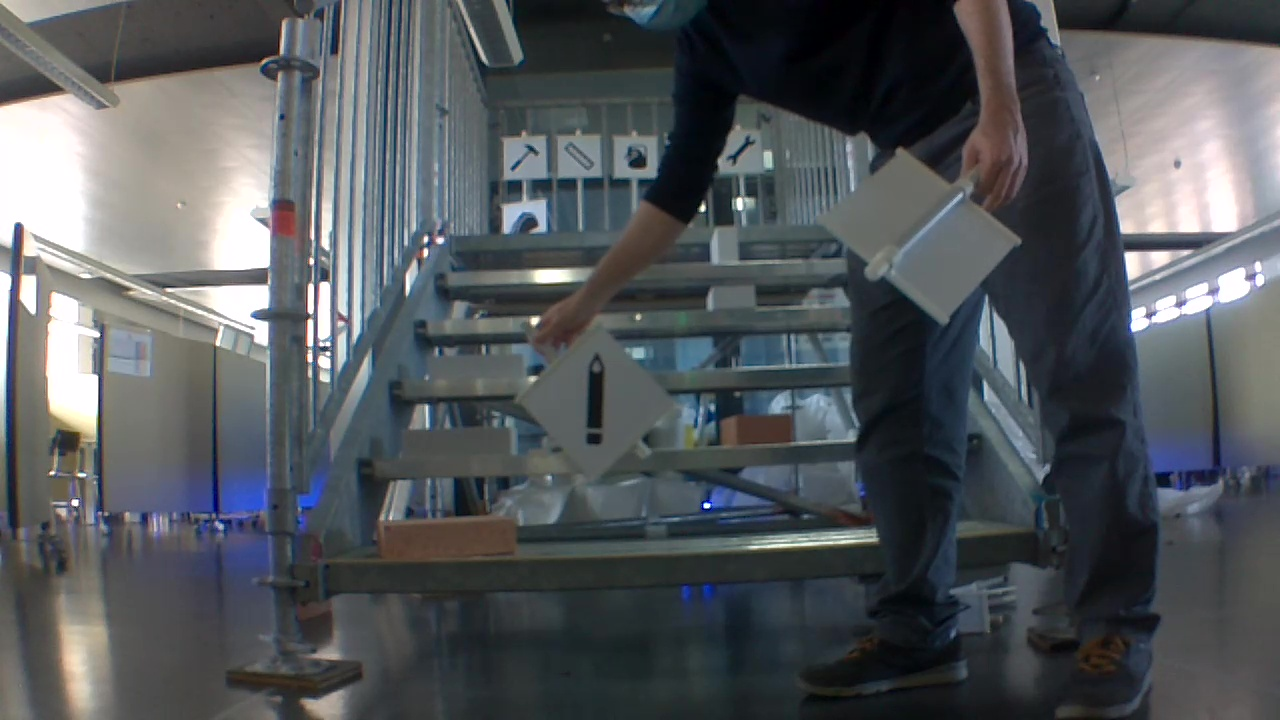brick: (376, 516, 515, 560), (393, 427, 513, 456), (416, 352, 519, 382), (720, 413, 799, 446), (710, 227, 741, 266), (708, 285, 757, 309)
bucket: (627, 140, 650, 172)
edge: (322, 540, 876, 596)
hammer: (510, 141, 541, 170)
pencil: (577, 349, 613, 451)
ruler: (564, 141, 595, 169)
taco: (507, 207, 544, 235)
wrench: (726, 134, 757, 167)
